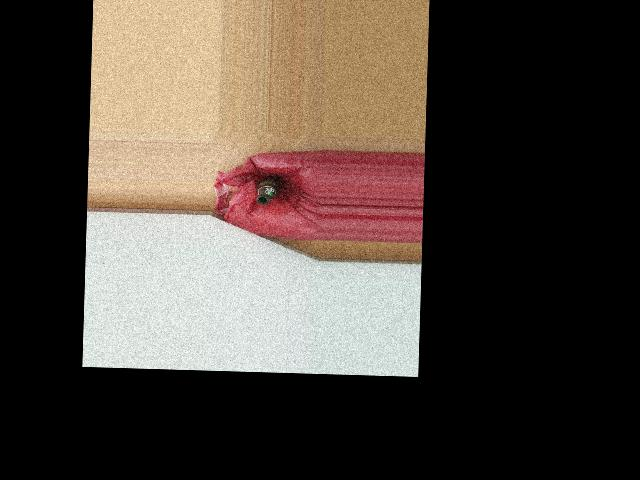beer: (256, 174, 281, 204)
